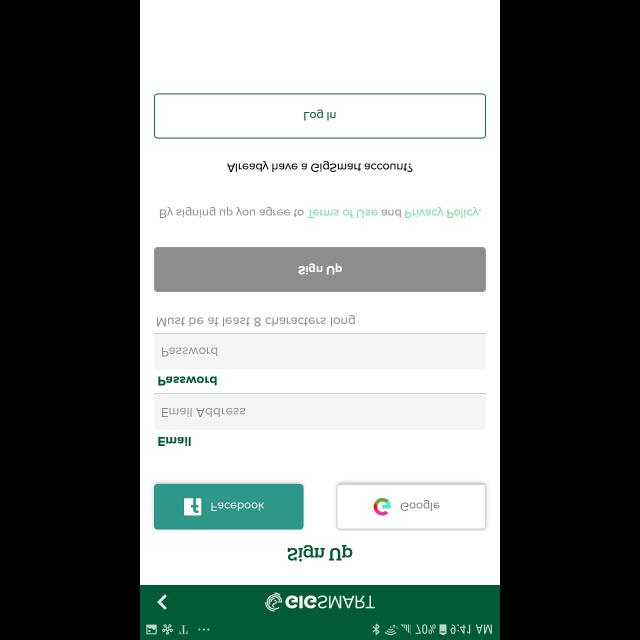icon: (158, 594, 166, 610)
image: (265, 592, 283, 612)
input: (154, 332, 486, 370), (154, 392, 486, 430)
text: (160, 206, 480, 218), (157, 314, 355, 326), (227, 160, 413, 172), (285, 595, 375, 609), (288, 545, 352, 561), (162, 408, 245, 417), (158, 376, 218, 386), (162, 348, 218, 357), (158, 436, 192, 446)
textbutton: (154, 246, 486, 292), (154, 94, 486, 138), (154, 483, 304, 529), (336, 484, 486, 528)
uppertaskbar: (140, 623, 500, 639)
